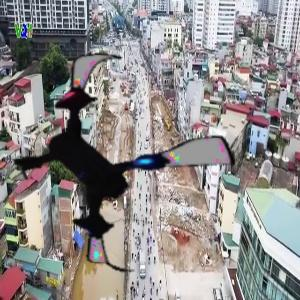drone: (3, 44, 236, 277)
